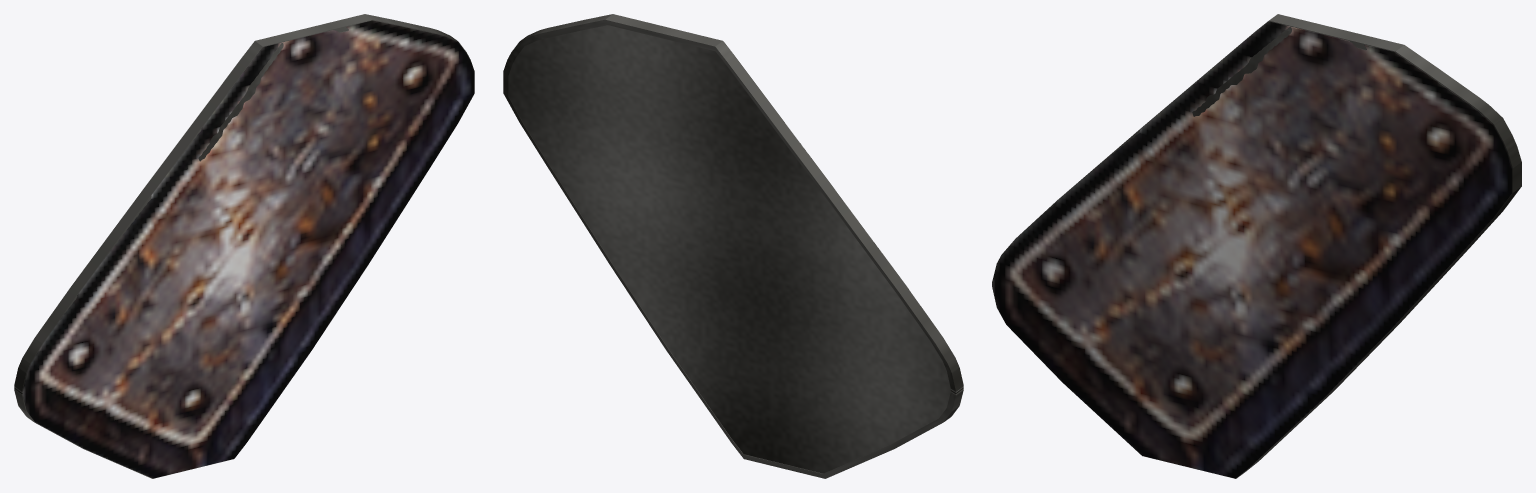
The model's file is plate.obj.
3 views of the same model, side by side, from view 1: azimuth 30°, elevation 25°; view 2: azimuth 150°, elevation 25°; view 3: azimuth 330°, elevation 25° (orthographic). The views are drawn at different scales.
Visible parts, largest first — view 1: plate_paint, plate_edge, plate_body; view 2: plate_body, plate_edge; view 3: plate_paint, plate_edge, plate_body.
Boxes of the visible parts, bbox=[...] form: plate_paint: bbox=[22, 20, 474, 478]; plate_edge: bbox=[14, 14, 474, 478]; plate_body: bbox=[198, 30, 347, 161]; plate_body: bbox=[508, 25, 950, 473]; plate_edge: bbox=[503, 14, 963, 478]; plate_paint: bbox=[992, 21, 1511, 478]; plate_edge: bbox=[992, 14, 1521, 478]; plate_body: bbox=[1192, 30, 1366, 116].
Size of the model in its own units: 112 by 95.86 by 4.95.
Materials: 2 (2 with a texture image).
